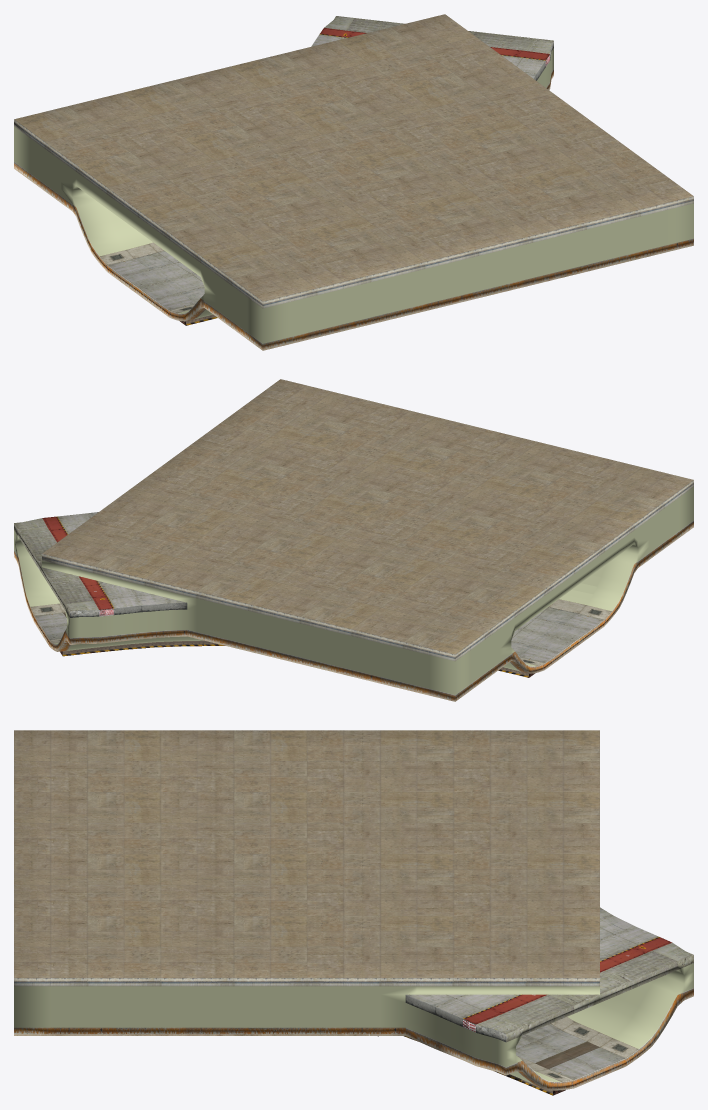
Rendered from PlatformUnitHor_Left_Ls.fbx.
3 views of the same model, one above another, from view 1: azimuth 30°, elevation 25°; view 2: azimuth 150°, elevation 25°; view 3: azimuth 270°, elevation 25° (orthographic). The views are drawn at different scales.
Visible parts, largest first — view 1: PlatformUnitHor_Left_Ls_Lod0; view 2: PlatformUnitHor_Left_Ls_Lod0; view 3: PlatformUnitHor_Left_Ls_Lod0.
Part boxes in pixels (box(x1,y1,x2,y2)): PlatformUnitHor_Left_Ls_Lod0: box(14, 14, 693, 350); PlatformUnitHor_Left_Ls_Lod0: box(14, 379, 693, 701); PlatformUnitHor_Left_Ls_Lod0: box(14, 730, 693, 1095).
Bounding box in the file's own units: 74.26 × 12.69 × 74.25.
